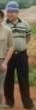boots: (1, 104, 12, 108), (0, 106, 11, 110)
